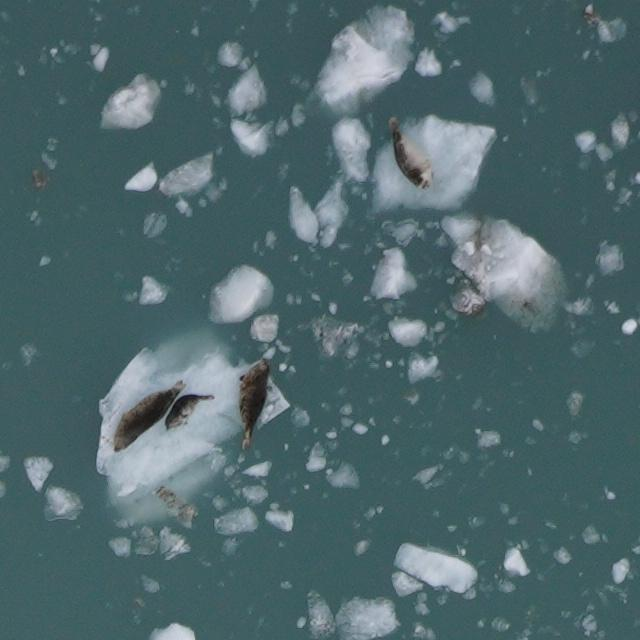seal: (110, 377, 189, 455), (387, 114, 437, 193), (236, 354, 275, 453), (162, 391, 219, 434)
